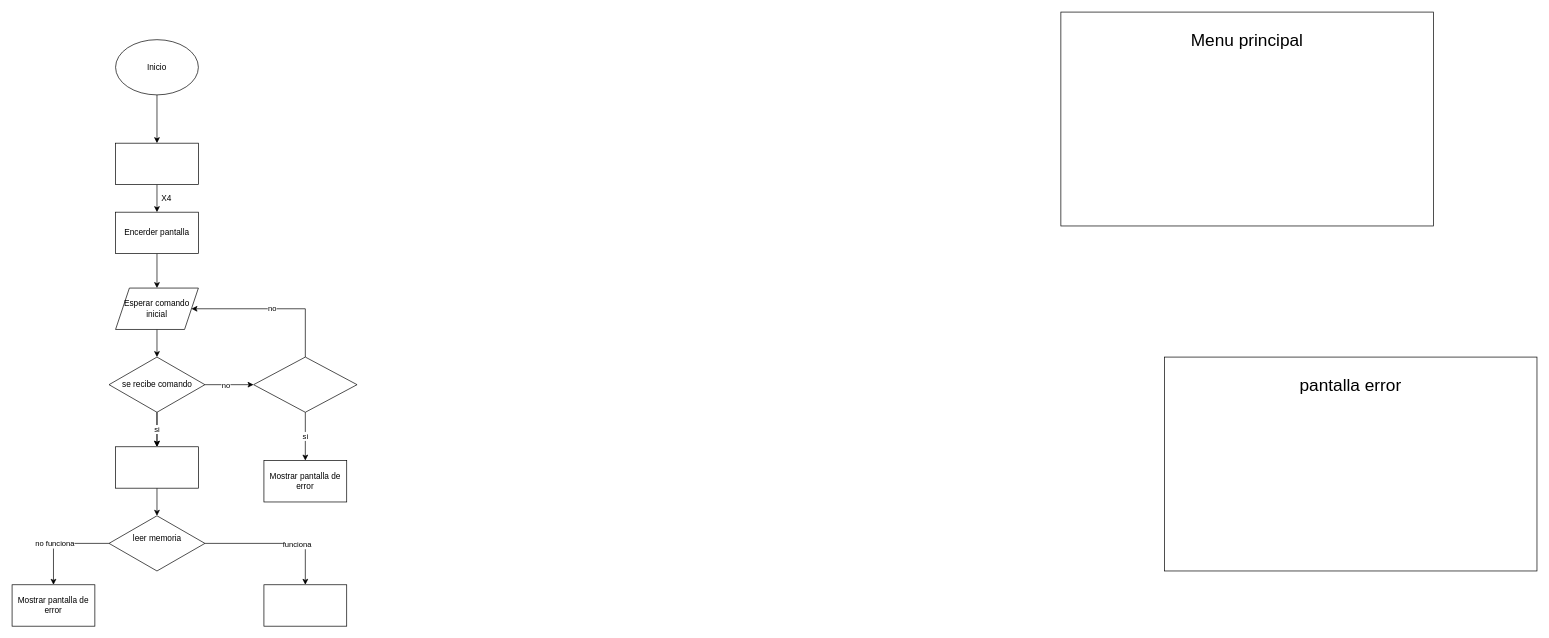
This 1549x638 diagram has some shape labels left out. The centre of each missing label's shape, as x and y in pixels:
"Mostrar menu principal" goes at pixel 305 605.
"Reproducir sonido de prueba" goes at pixel 156 467.
"T>Timeout" goes at pixel 305 384.
"Verificar modulos" goes at pixel 156 163.
